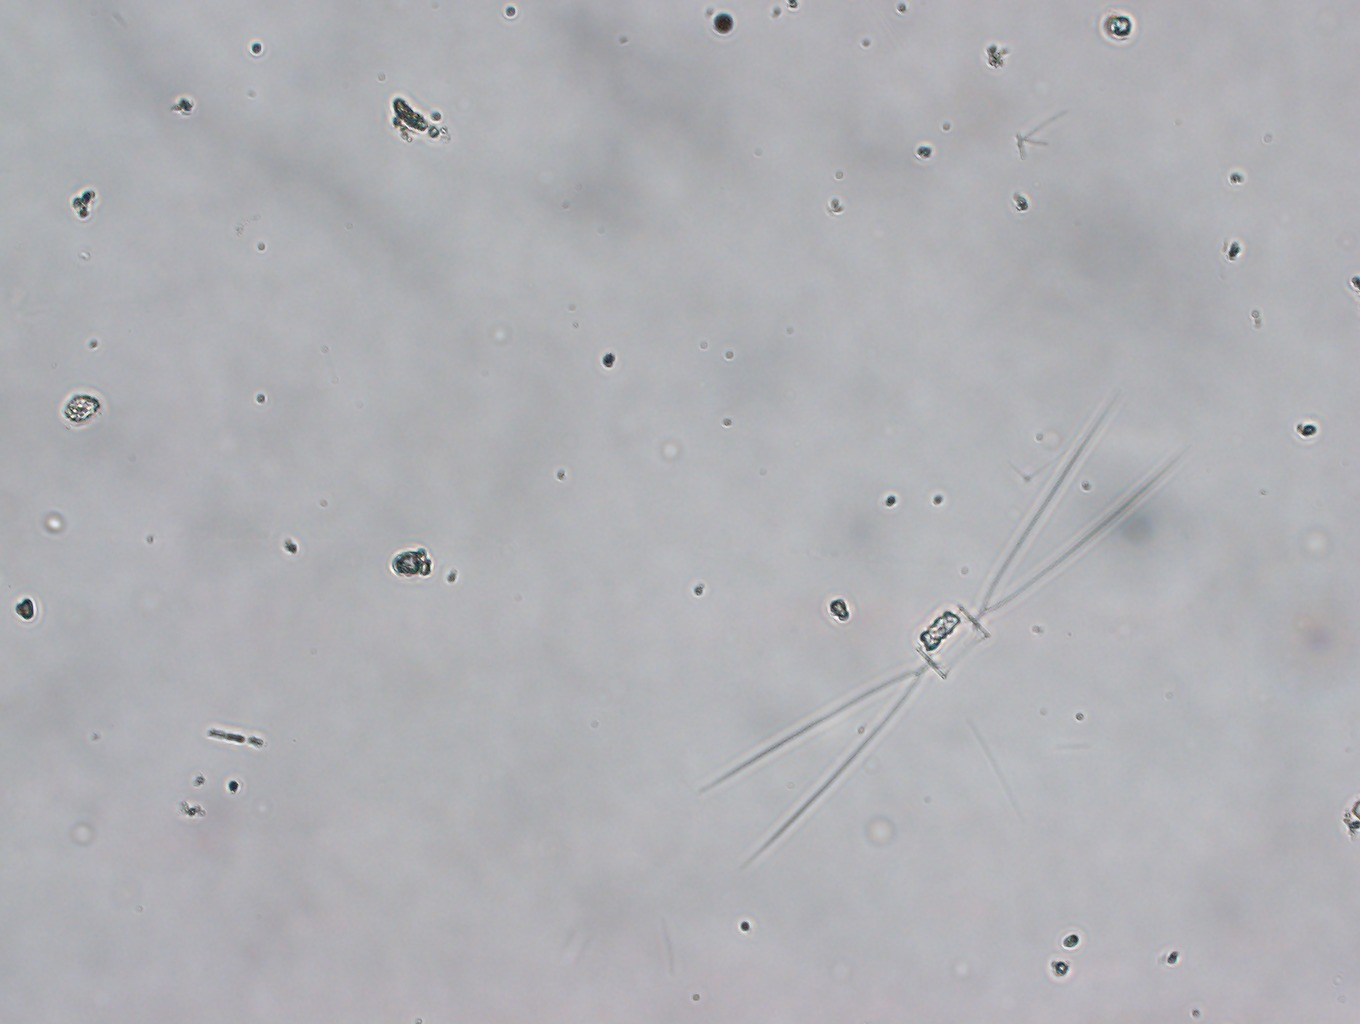chaetoceros: (683, 376, 1183, 873)
